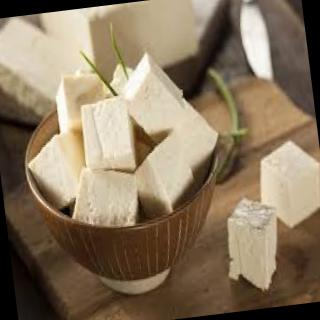Tahu: (5, 40, 228, 260), (209, 130, 320, 300)
